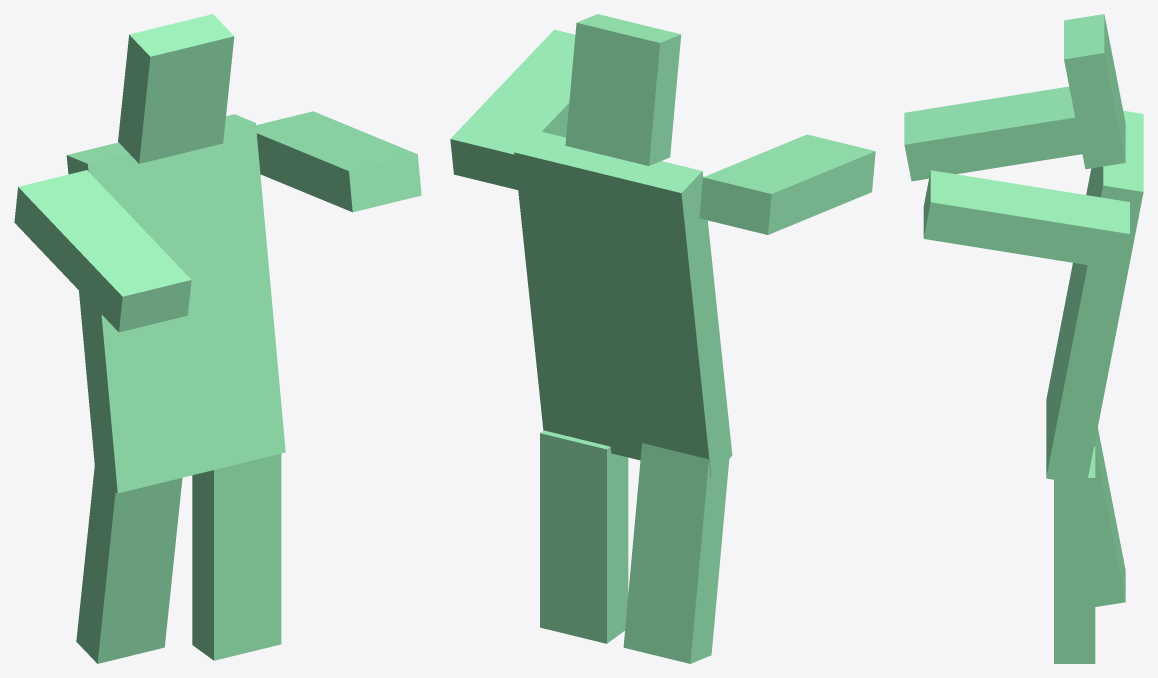
File: UndeadCommanderA.fbx
The picture shows the model from 3 angles, left to right: view 1: azimuth 30°, elevation 25°; view 2: azimuth 150°, elevation 25°; view 3: azimuth 270°, elevation 25°; orthographic projection. The views are drawn at different scales.
Visible parts, largest first — view 1: Cube.001; view 2: Cube.001; view 3: Cube.001.
Boxes of the visible parts, x1,y1,x2,y2 form: Cube.001: [14, 14, 421, 663]; Cube.001: [450, 14, 875, 663]; Cube.001: [904, 14, 1143, 663].
Size of the model in its own units: 82.8 by 159 by 58.28.
